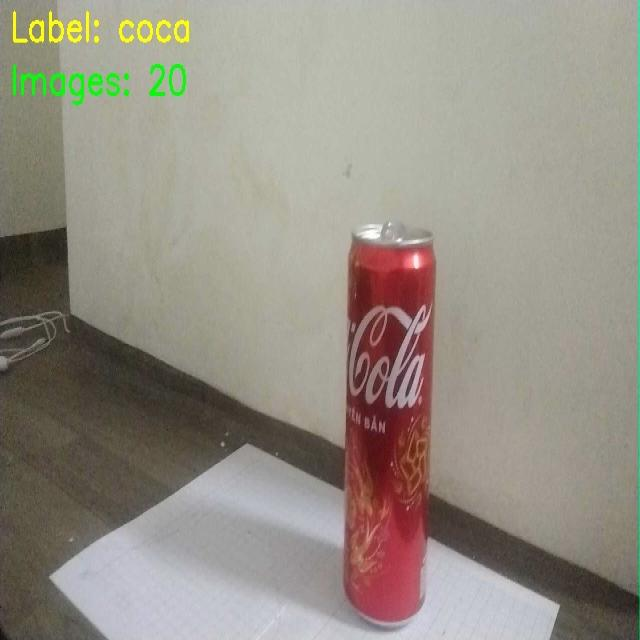Coca: (321, 195, 448, 639)
